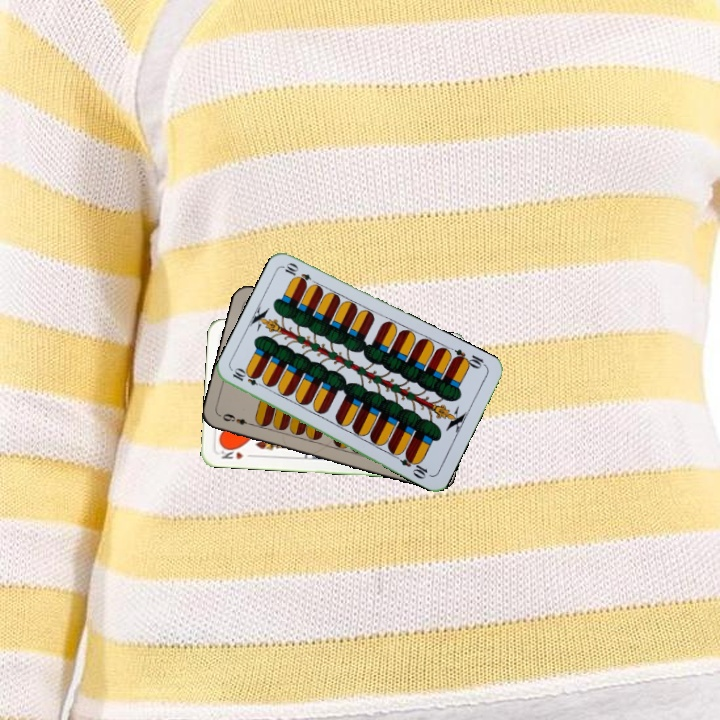E10: (449, 345, 489, 371), (228, 365, 268, 390)
E9: (216, 409, 256, 429)
HK: (215, 443, 246, 462)
